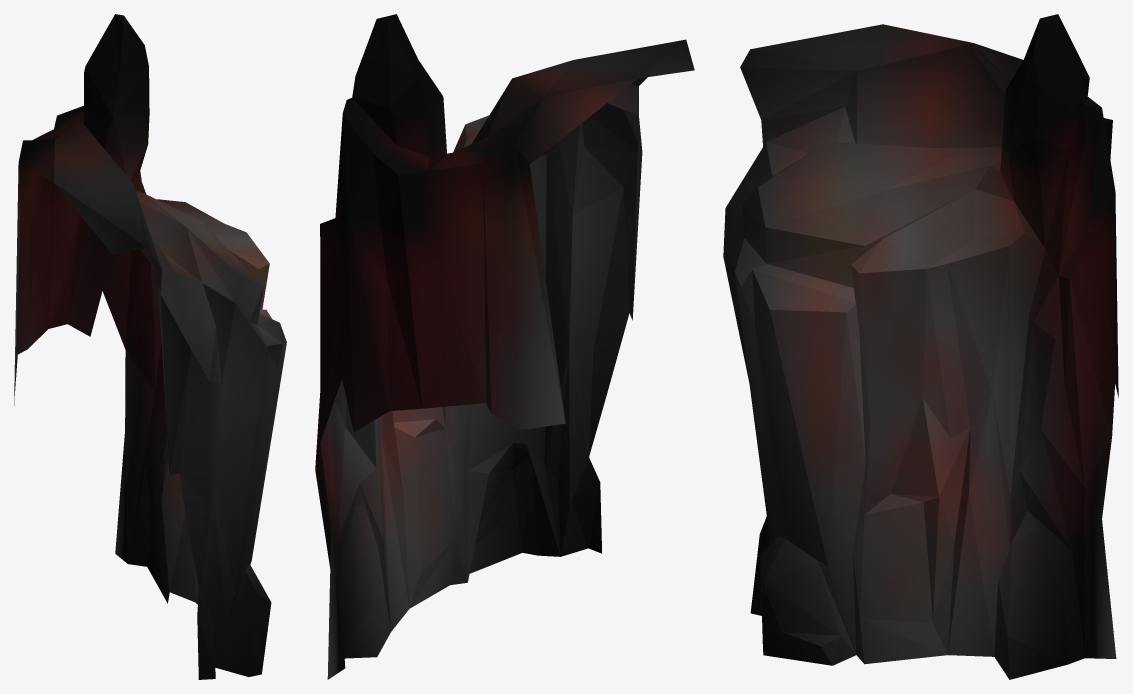
File: Terrain_Volcano_3.fbx
The picture shows the model from 3 angles, left to right: view 1: azimuth 30°, elevation 25°; view 2: azimuth 150°, elevation 25°; view 3: azimuth 270°, elevation 25°; orthographic projection. The views are drawn at different scales.
Parts seen in each view (by area): view 1: terrain_mountain_307_11; view 2: terrain_mountain_307_11; view 3: terrain_mountain_307_11.
Boxes of the visible parts, x1=… form: terrain_mountain_307_11: x1=14, y1=14, x2=286, y2=679; terrain_mountain_307_11: x1=315, y1=14, x2=694, y2=679; terrain_mountain_307_11: x1=723, y1=14, x2=1118, y2=679.
Size of the model in its own units: 1534 by 4015 by 2216.
1 material, 1 textured.
